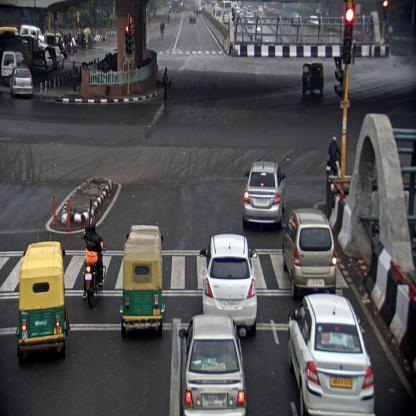car: (289, 292, 374, 415), (177, 312, 248, 415), (200, 233, 258, 338), (282, 207, 336, 299), (242, 161, 288, 230), (8, 66, 32, 100), (1, 50, 24, 83)
motorcycle: (83, 217, 106, 309), (325, 132, 340, 178)
